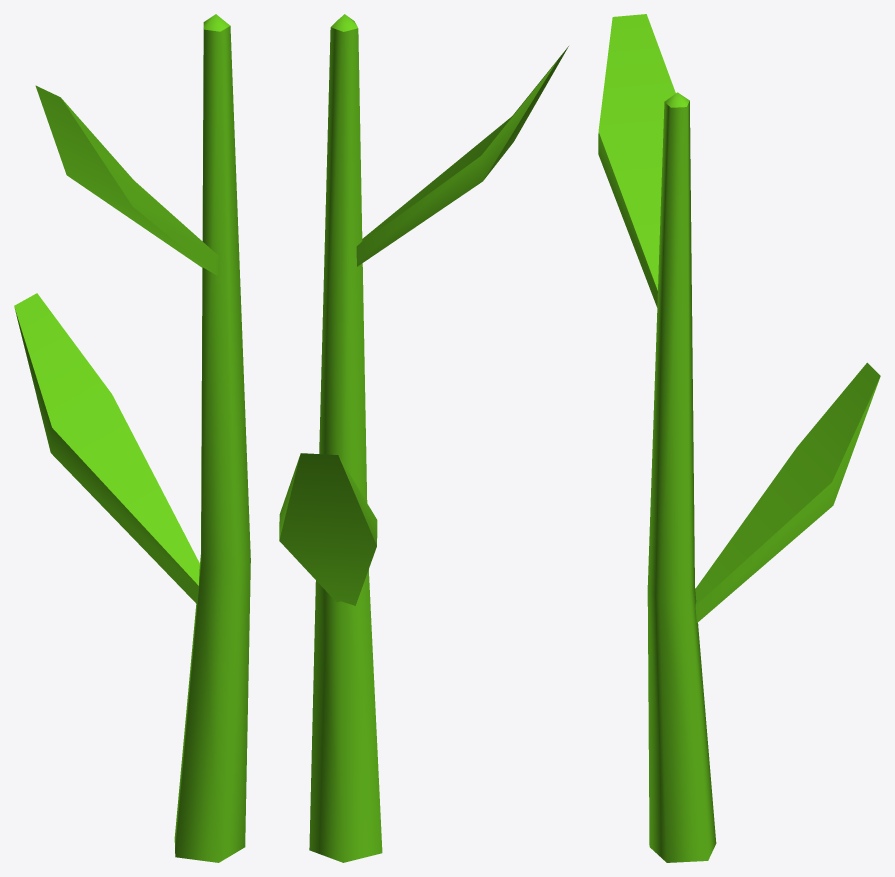
Rendered from SM_Wheat_3_b.FBX.
3 views of the same model, side by side, from view 1: azimuth 30°, elevation 25°; view 2: azimuth 150°, elevation 25°; view 3: azimuth 270°, elevation 25° (orthographic). The views are drawn at different scales.
Visible parts, largest first — view 1: Object040; view 2: Object040; view 3: Object040.
Part boxes in pixels (bbox=[...]): Object040: bbox=[14, 14, 250, 862]; Object040: bbox=[279, 14, 568, 862]; Object040: bbox=[598, 14, 880, 862].
Bounding box in the file's own units: 0.7249 × 2.59 × 0.8736.
